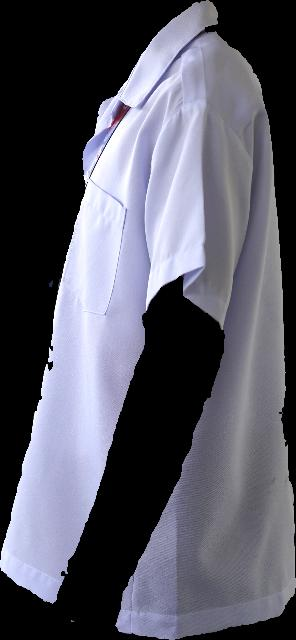poloboy: (0, 1, 295, 639)
